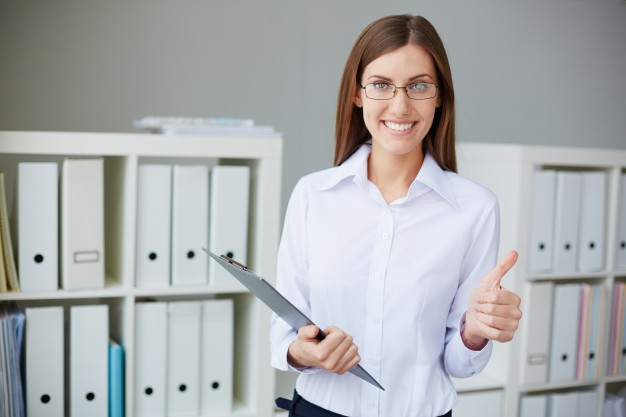thumbsup: (474, 250, 523, 344)
